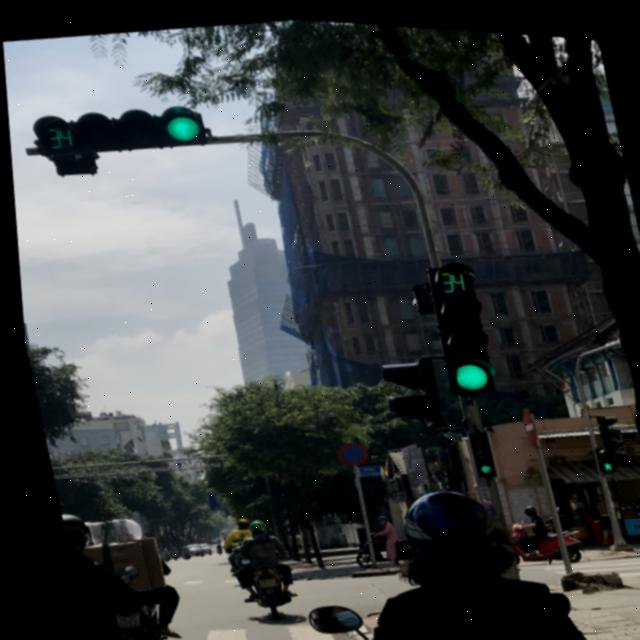Green: (68, 82, 215, 166), (414, 282, 506, 387), (451, 419, 500, 475)
